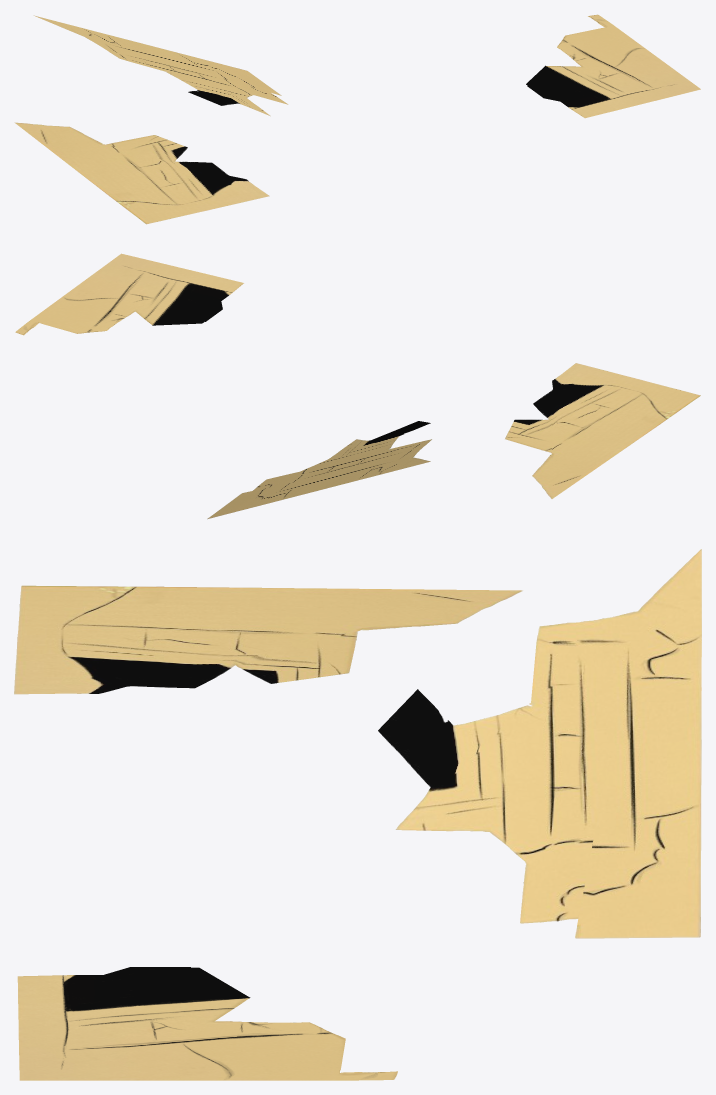
File: cave_clues4.fbx
The picture shows the model from 3 angles, top to bottom: view 1: azimuth 30°, elevation 25°; view 2: azimuth 150°, elevation 25°; view 3: azimuth 270°, elevation 25°; orthographic projection. The views are drawn at different scales.
Parts seen in each view (by area): view 1: Cube.002, Cube.003, Cube.001; view 2: Cube.002, Cube.003, Cube.001; view 3: Cube.001, Cube.002, Cube.003.
Part boxes in pixels (box(x1,y1,x2,y2)): Cube.002: box(14, 122, 269, 224); Cube.003: box(526, 14, 700, 118); Cube.001: box(33, 15, 288, 116); Cube.002: box(505, 363, 700, 498); Cube.003: box(15, 253, 243, 335); Cube.001: box(207, 421, 431, 519); Cube.001: box(378, 549, 701, 938); Cube.002: box(14, 585, 522, 694); Cube.003: box(17, 967, 397, 1080).
Size of the model in its own units: 464 by 86.54 by 273.
